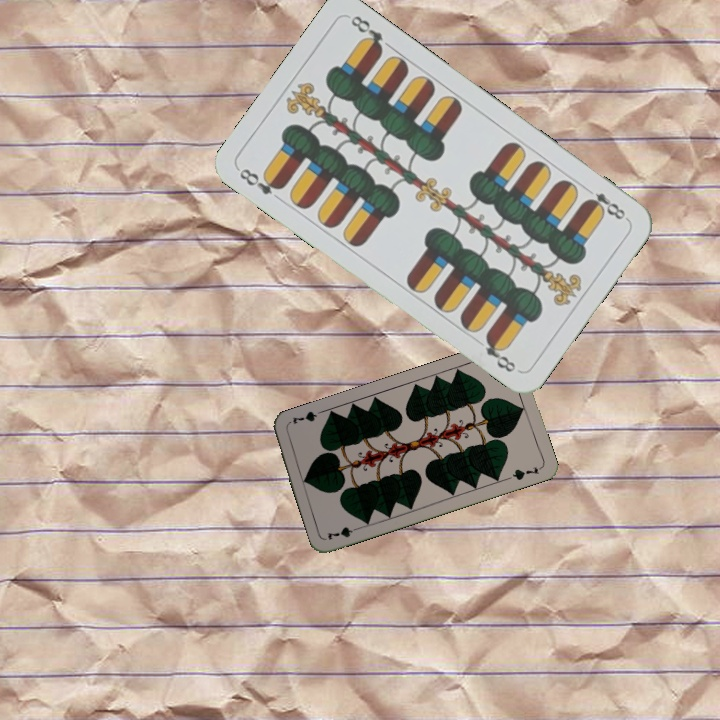E8: (581, 182, 630, 223), (235, 164, 287, 198)
G7: (323, 522, 363, 542)
